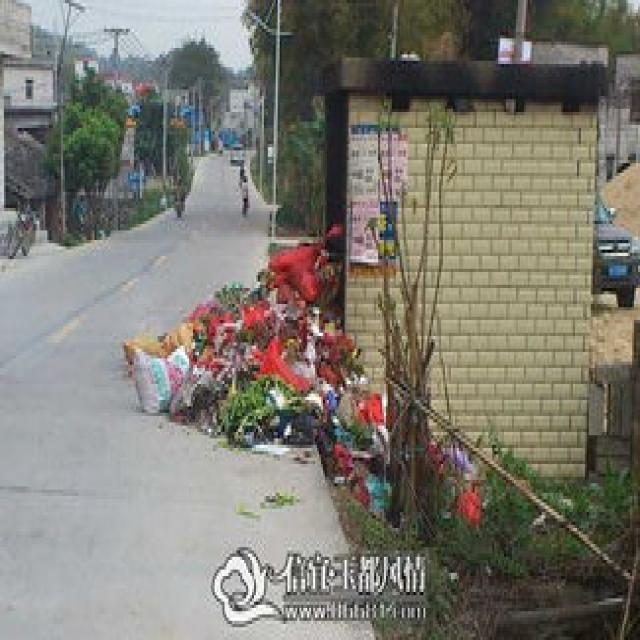garbage: (120, 218, 392, 515), (428, 435, 480, 528)
